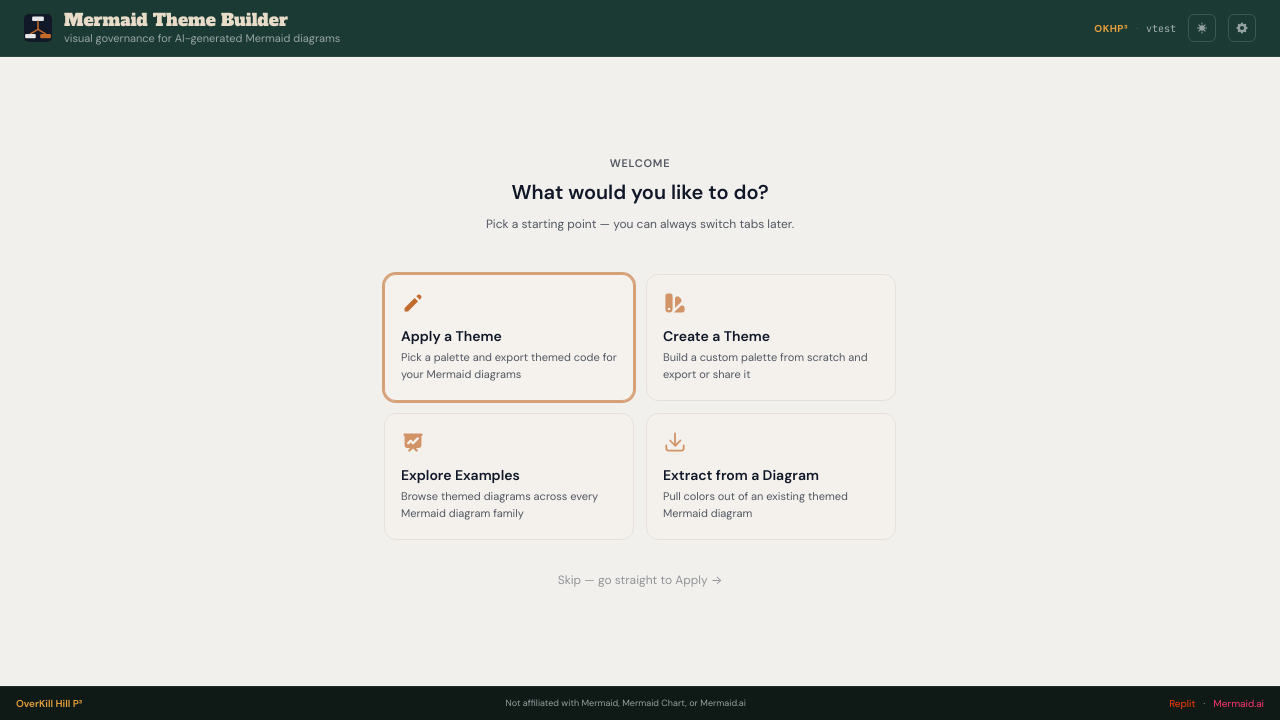
Scenario: AppShell first-use route selector integration › persists the selected route and restores it for a returning user
This screenshot has width=1280, height=720.
Expected: the heading "What would you like to do?" is shown, top-left (511, 179), bottom-right (769, 205)
Click the button "Explore Examples": (509, 477) top-left (384, 413), bottom-right (634, 540)
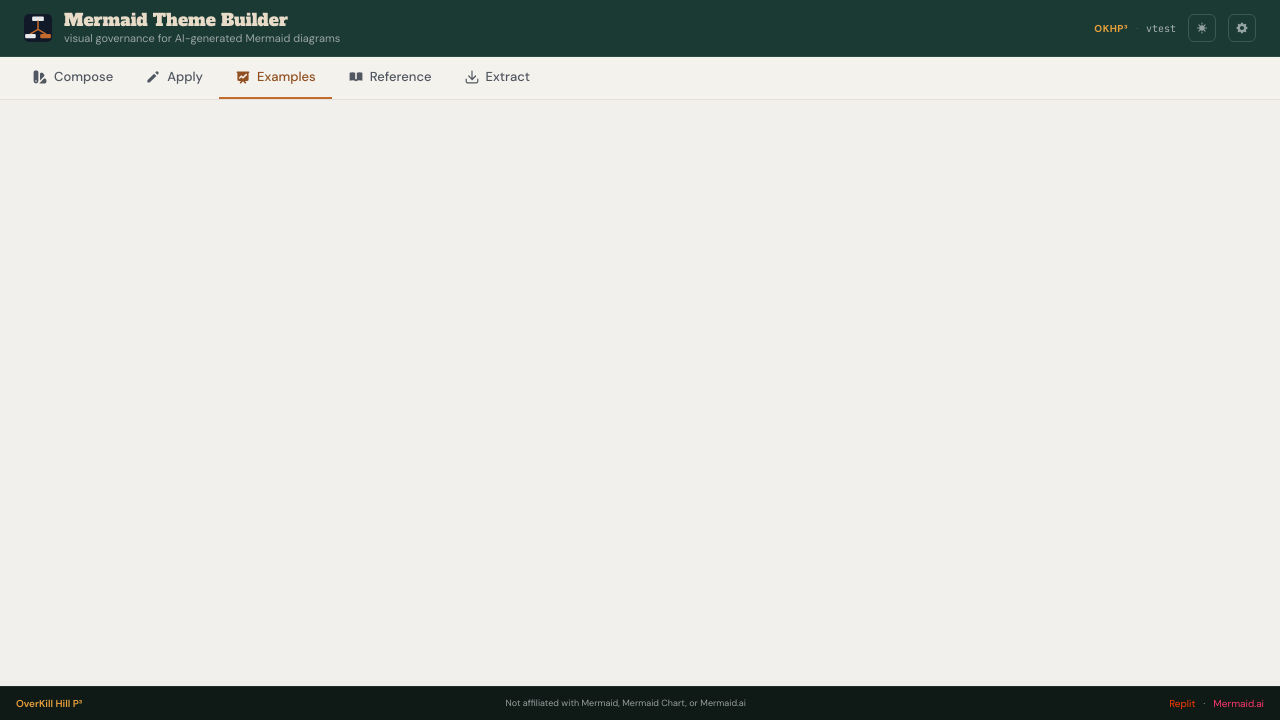
Now the number of tabs "Examples" is 2
